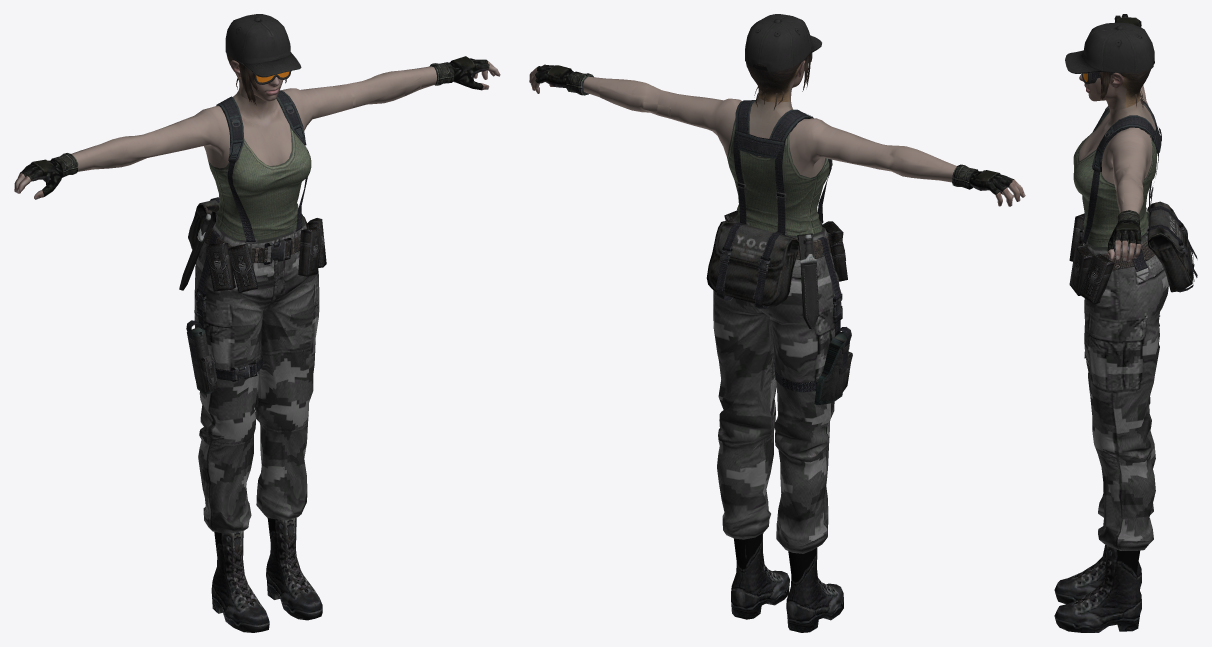
File: eve-weisenhart.fbx
3 renders of one model, left to right at view 1: azimuth 30°, elevation 25°; view 2: azimuth 150°, elevation 25°; view 3: azimuth 270°, elevation 25°, orthographic. The views are drawn at different scales.
Parts seen in each view (by area): view 1: Eve; view 2: Eve; view 3: Eve.
Part boxes in pixels (x1,y1,x2,y2): Eve: (14, 14, 500, 632); Eve: (529, 14, 1025, 632); Eve: (1054, 14, 1197, 632).
Bounding box in the file's own units: 4.51 × 5.22 × 1.16.
13 materials, 13 textured.
